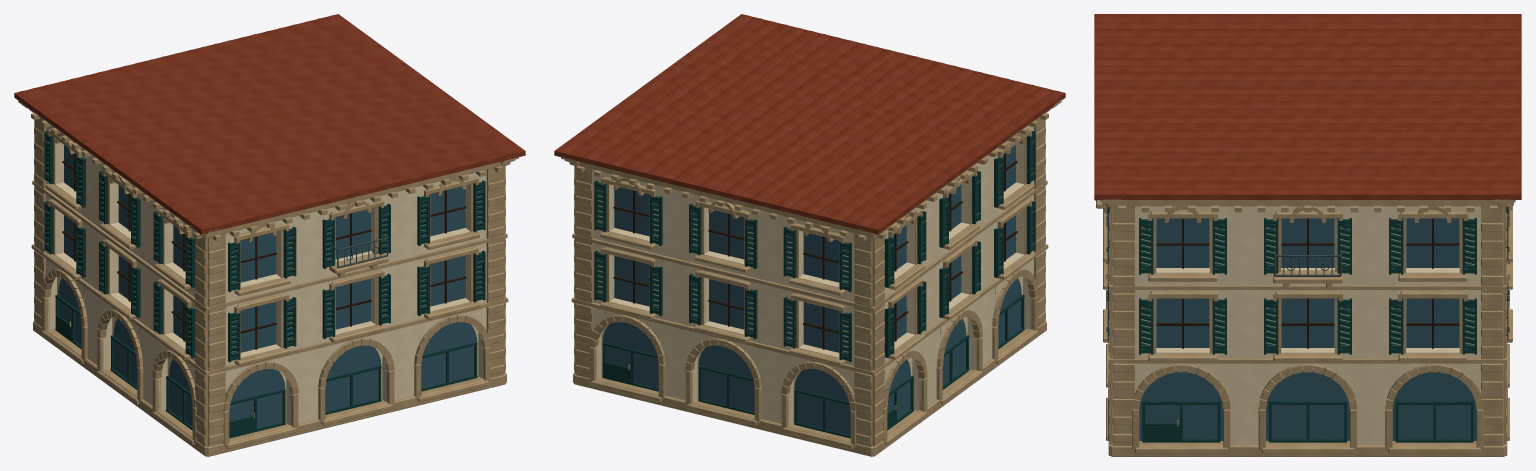
File: arcade-original.glb
The picture shows the model from 3 angles, left to right: view 1: azimuth 30°, elevation 25°; view 2: azimuth 150°, elevation 25°; view 3: azimuth 270°, elevation 25°; orthographic projection. The views are drawn at different scales.
Visible parts, largest first — view 1: Barrel terracotta, Honey limestone, Arcade pale plaster, Deep blue glazing, Aged teal timber, Oiled walnut, Graphite iron; view 2: Barrel terracotta, Honey limestone, Arcade pale plaster, Deep blue glazing, Aged teal timber, Oiled walnut, Graphite iron; view 3: Barrel terracotta, Honey limestone, Deep blue glazing, Arcade pale plaster, Aged teal timber, Oiled walnut, Graphite iron.
Part boxes in pixels (x1=…): Barrel terracotta: x1=14, y1=14, x2=525, y2=234; Honey limestone: x1=18, y1=101, x2=518, y2=456; Arcade pale plaster: x1=46, y1=126, x2=486, y2=445; Deep blue glazing: x1=58, y1=145, x2=477, y2=428; Aged teal timber: x1=44, y1=131, x2=485, y2=438; Oiled walnut: x1=62, y1=153, x2=466, y2=349; Graphite iron: x1=44, y1=140, x2=484, y2=354; Barrel terracotta: x1=554, y1=14, x2=1065, y2=234; Honey limestone: x1=561, y1=100, x2=1061, y2=456; Arcade pale plaster: x1=593, y1=126, x2=1033, y2=445; Deep blue glazing: x1=602, y1=145, x2=1021, y2=435; Aged teal timber: x1=594, y1=131, x2=1035, y2=438; Oiled walnut: x1=613, y1=153, x2=1017, y2=349; Graphite iron: x1=595, y1=140, x2=1035, y2=354; Barrel terracotta: x1=1094, y1=14, x2=1521, y2=199; Honey limestone: x1=1096, y1=199, x2=1515, y2=456; Deep blue glazing: x1=1139, y1=218, x2=1476, y2=440; Arcade pale plaster: x1=1112, y1=206, x2=1503, y2=444; Aged teal timber: x1=1107, y1=207, x2=1508, y2=442; Oiled walnut: x1=1156, y1=218, x2=1459, y2=348; Graphite iron: x1=1095, y1=200, x2=1509, y2=346.
Bounding box in the file's own units: 13 × 9.03 × 13.
7 materials, 5 textured.
